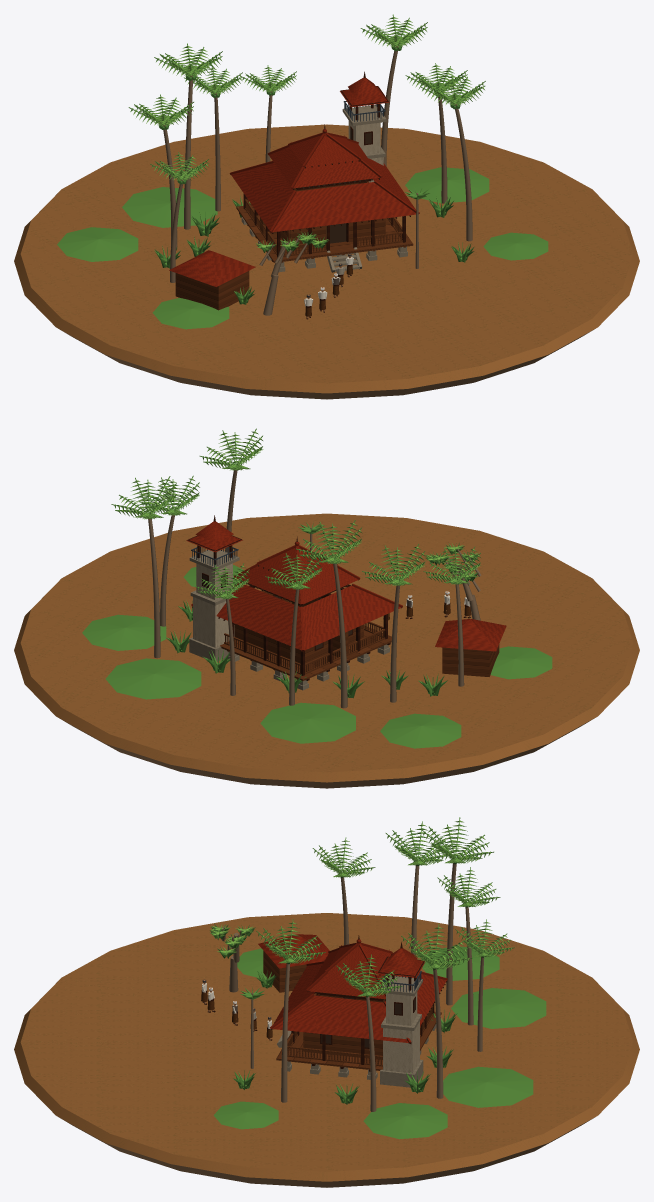
File: 10.Musala_Jombang_Tengah_1888_Banten-compressed.glb
3 views of the same model, one above another, from view 1: azimuth 30°, elevation 25°; view 2: azimuth 150°, elevation 25°; view 3: azimuth 270°, elevation 25° (orthographic).
Parts seen in each view (by area): view 1: Courtyard_Terrain, Traditional_Wooden_Musala, Tropical_Foliage_And_Coconut_Palms, Left_Village_House_Edge, Banten_Minaret_Tower, Foreground_Broadleaf_Tree; view 2: Courtyard_Terrain, Traditional_Wooden_Musala, Tropical_Foliage_And_Coconut_Palms, Banten_Minaret_Tower, Left_Village_House_Edge, Foreground_Broadleaf_Tree; view 3: Courtyard_Terrain, Traditional_Wooden_Musala, Tropical_Foliage_And_Coconut_Palms, Banten_Minaret_Tower, Left_Village_House_Edge, Foreground_Broadleaf_Tree.
Part boxes in pixels (x1=…): Courtyard_Terrain: x1=14, y1=124, x2=639, y2=399; Traditional_Wooden_Musala: x1=229, y1=124, x2=419, y2=272; Tropical_Foliage_And_Coconut_Palms: x1=154, y1=46, x2=474, y2=304; Left_Village_House_Edge: x1=169, y1=250, x2=255, y2=310; Banten_Minaret_Tower: x1=340, y1=71, x2=389, y2=182; Foreground_Broadleaf_Tree: x1=256, y1=232, x2=329, y2=315; Courtyard_Terrain: x1=14, y1=513, x2=639, y2=788; Traditional_Wooden_Musala: x1=191, y1=536, x2=402, y2=690; Tropical_Foliage_And_Coconut_Palms: x1=148, y1=469, x2=464, y2=708; Banten_Minaret_Tower: x1=186, y1=515, x2=242, y2=661; Left_Village_House_Edge: x1=435, y1=619, x2=506, y2=676; Foreground_Broadleaf_Tree: x1=425, y1=543, x2=481, y2=620; Courtyard_Terrain: x1=14, y1=913, x2=639, y2=1187; Traditional_Wooden_Musala: x1=270, y1=935, x2=447, y2=1079; Tropical_Foliage_And_Coconut_Palms: x1=233, y1=858, x2=485, y2=1111; Banten_Minaret_Tower: x1=377, y1=942, x2=425, y2=1087; Left_Village_House_Edge: x1=258, y1=934, x2=329, y2=992; Foreground_Broadleaf_Tree: x1=210, y1=924, x2=255, y2=992.
Bounding box in the file's own units: 47 × 16.39 × 47.
21 materials, 8 textured.
